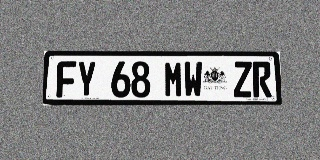6: (111, 61, 131, 97)
8: (131, 61, 150, 97)
F: (56, 61, 76, 97)
M: (164, 61, 183, 97)
R: (252, 61, 272, 97)
W: (184, 61, 203, 97)
Y: (76, 61, 96, 97)
Z: (233, 61, 252, 97)
